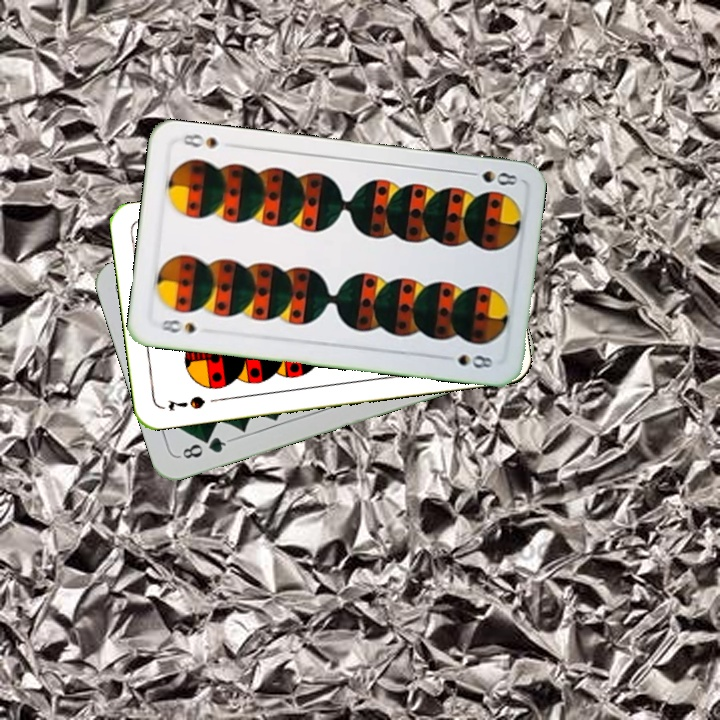G8: (175, 433, 233, 462)
S7: (164, 392, 207, 413)
S8: (461, 166, 520, 189), (157, 315, 199, 336)
